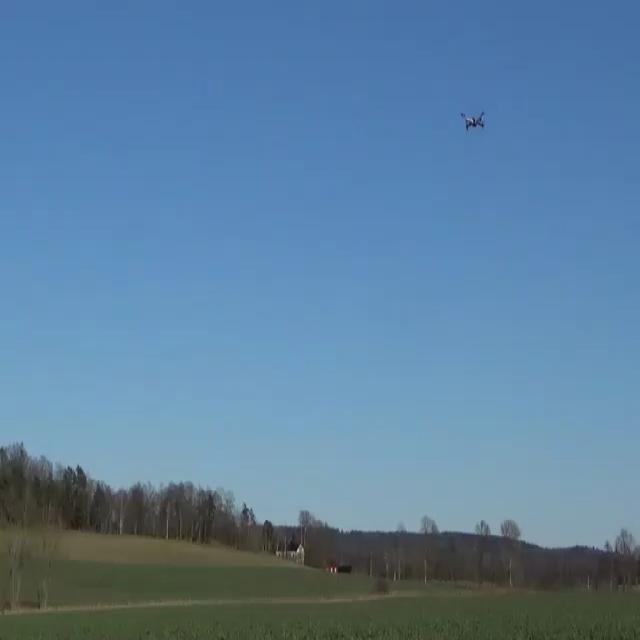Drone: (454, 104, 496, 137)
